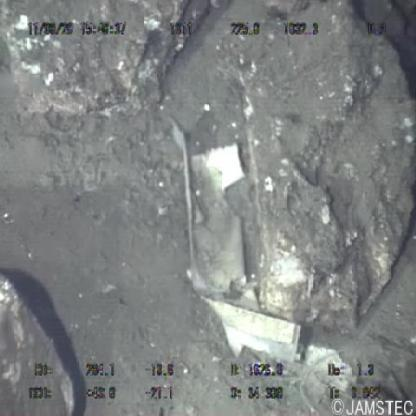Rác: (168, 122, 304, 370)
